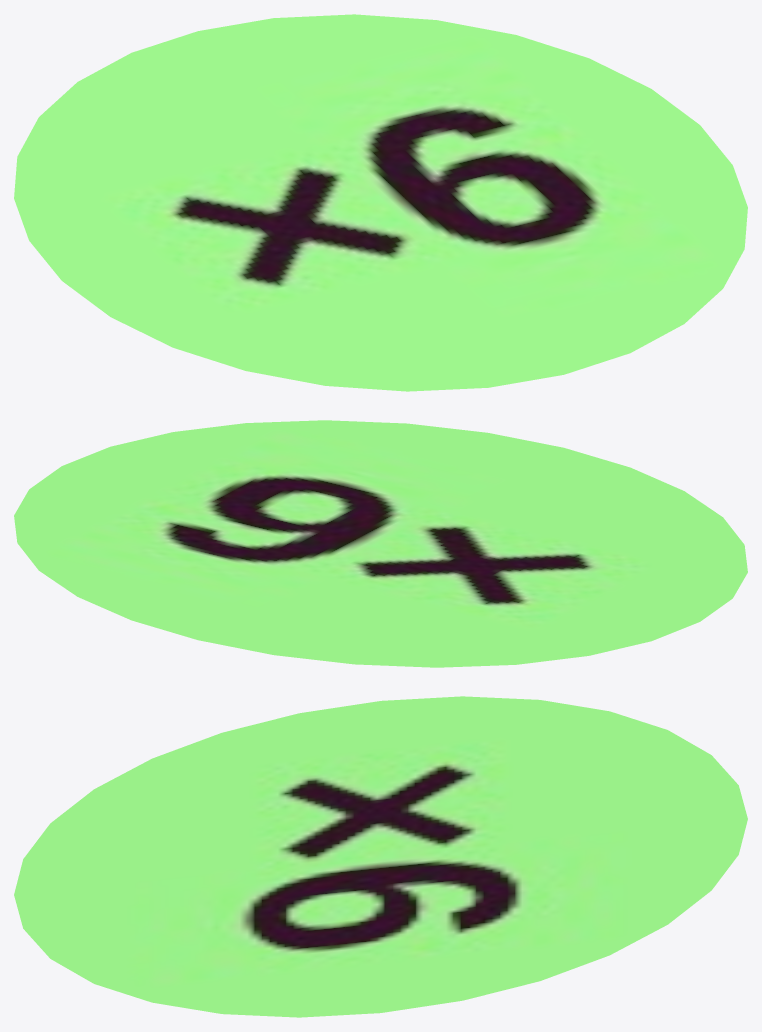
Rendered from pp_light_mult6.glb.
3 views of the same model, one above another, from view 1: azimuth 30°, elevation 25°; view 2: azimuth 150°, elevation 25°; view 3: azimuth 270°, elevation 25° (orthographic).
Visible parts, largest first — view 1: MultLight; view 2: MultLight; view 3: MultLight.
Boxes of the visible parts, x1,y1,x2,y2 form: MultLight: (14,14,747,391); MultLight: (14,420,747,667); MultLight: (14,696,747,1017).
Bounding box in the file's own units: 0.025 × 0.00283 × 0.0248.
Materials: 1 (1 with a texture image).
